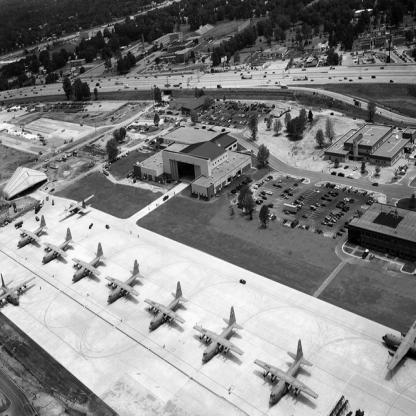C130: (255, 339, 321, 406), (194, 307, 246, 364), (145, 282, 189, 332), (106, 260, 145, 305), (383, 320, 416, 373), (72, 243, 108, 284), (2, 273, 38, 309), (43, 228, 76, 265), (18, 215, 50, 249), (59, 195, 96, 218)
